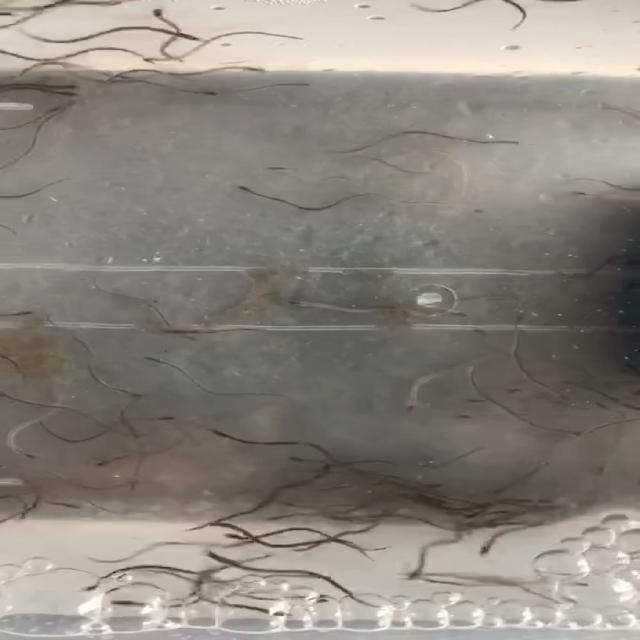active_glass_eel: (301, 455, 358, 486), (421, 299, 470, 329), (71, 452, 130, 474), (140, 322, 198, 344), (383, 393, 430, 419), (112, 379, 155, 407), (267, 294, 321, 316), (541, 426, 592, 448), (255, 606, 311, 625), (135, 350, 179, 372), (10, 442, 54, 464), (200, 422, 238, 446), (316, 510, 368, 527), (188, 546, 237, 564), (226, 180, 266, 202), (410, 476, 454, 496), (464, 543, 511, 561), (398, 569, 440, 589), (248, 510, 300, 526), (532, 388, 580, 405), (185, 84, 230, 102), (140, 2, 182, 21), (162, 27, 204, 45), (493, 380, 524, 404), (41, 76, 87, 92), (197, 518, 246, 533), (284, 446, 316, 468), (3, 305, 39, 323), (153, 412, 192, 428), (264, 162, 305, 177), (44, 87, 91, 100), (91, 584, 130, 598), (458, 508, 487, 526), (222, 529, 255, 544), (265, 498, 303, 511), (82, 577, 104, 598), (238, 63, 270, 77), (104, 598, 144, 608)
